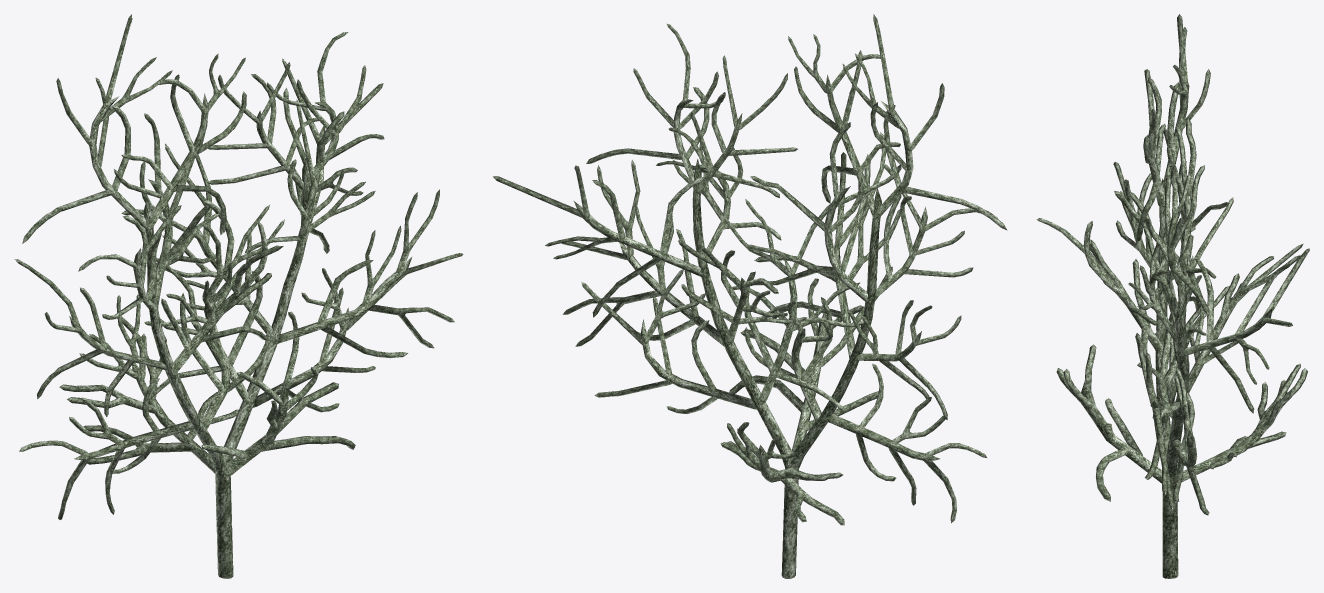
File: FanCoralCluster.008_FBX_still.fbx
The picture shows the model from 3 angles, left to right: view 1: azimuth 30°, elevation 25°; view 2: azimuth 150°, elevation 25°; view 3: azimuth 270°, elevation 25°; orthographic projection. The views are drawn at different scales.
Visible parts, largest first — view 1: FanCoralCluster.008_gameasset; view 2: FanCoralCluster.008_gameasset; view 3: FanCoralCluster.008_gameasset.
Boxes of the visible parts, box(x1,y1,x2,y2) form: FanCoralCluster.008_gameasset: box(14, 14, 463, 578); FanCoralCluster.008_gameasset: box(493, 14, 1007, 578); FanCoralCluster.008_gameasset: box(1036, 14, 1309, 578).
Bounding box in the file's own units: 5.1 × 6.39 × 3.02.
Materials: 1 (1 with a texture image).
